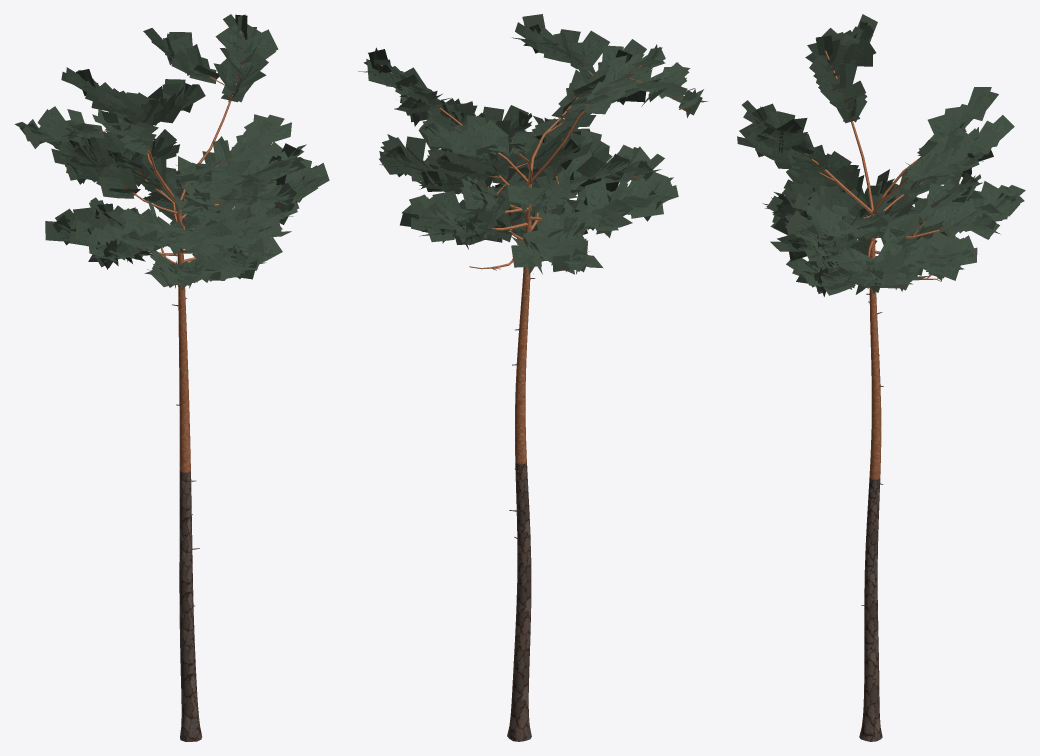
Rendered from pine_c_LOD0.fbx.
3 renders of one model, left to right at view 1: azimuth 30°, elevation 25°; view 2: azimuth 150°, elevation 25°; view 3: azimuth 270°, elevation 25°, orthographic. The views are drawn at different scales.
Visible parts, largest first — view 1: Pine_C_LOD0_Foliage, Pine_C_LOD0_Bark; view 2: Pine_C_LOD0_Foliage, Pine_C_LOD0_Bark; view 3: Pine_C_LOD0_Foliage, Pine_C_LOD0_Bark.
Part boxes in pixels (box(x1,y1,x2,y2)): Pine_C_LOD0_Foliage: box(14, 14, 329, 289); Pine_C_LOD0_Bark: box(99, 30, 242, 741); Pine_C_LOD0_Foliage: box(358, 14, 708, 274); Pine_C_LOD0_Bark: box(380, 65, 642, 741); Pine_C_LOD0_Foliage: box(737, 14, 1025, 296); Pine_C_LOD0_Bark: box(805, 50, 944, 741).
Size of the model in its own units: 10.68 by 22.47 by 9.02.
Materials: 2 (2 with a texture image).
